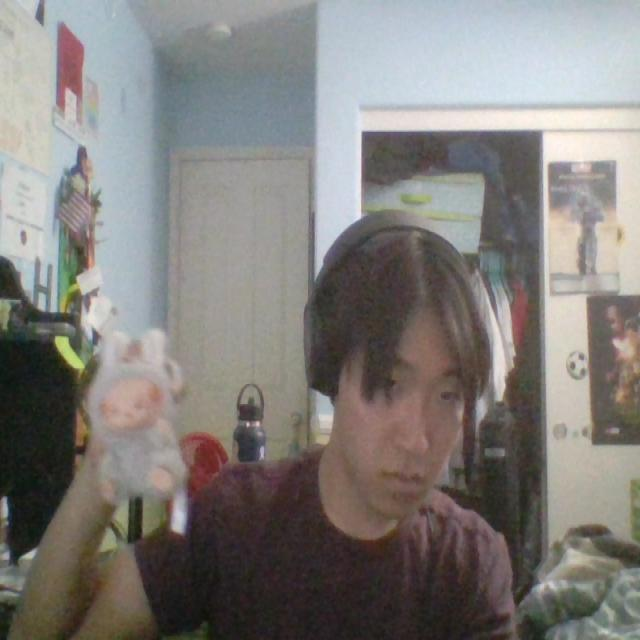labubu: (85, 331, 186, 504)
